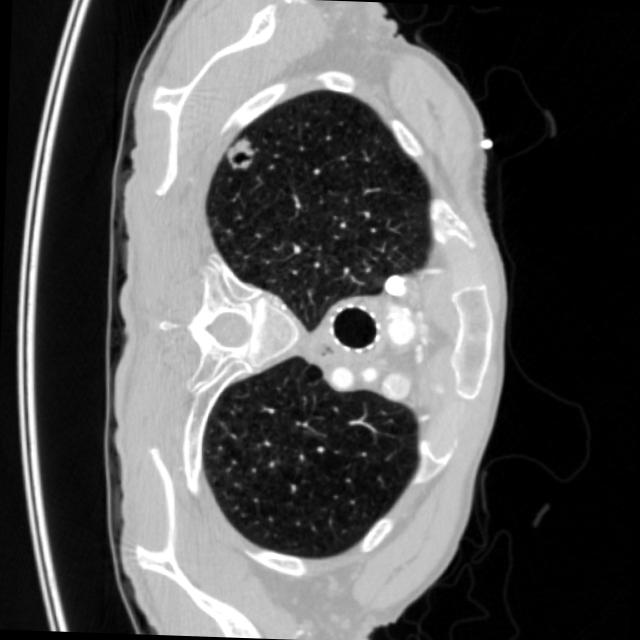nodule: (210, 121, 274, 185)
